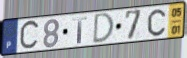7: (124, 9, 143, 42)
8: (43, 18, 61, 49)
C: (18, 18, 41, 53), (147, 8, 167, 38)
D: (91, 12, 115, 46)
T: (72, 16, 89, 45)
